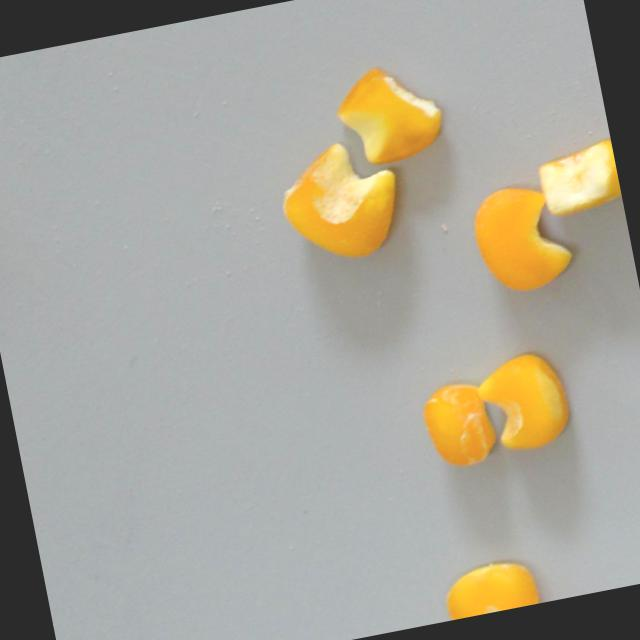dañado: (268, 131, 414, 275), (326, 50, 457, 173), (463, 173, 579, 300), (416, 373, 503, 474), (435, 550, 547, 622)
no_canjicado: (468, 344, 578, 461)
punto_negro: (531, 136, 624, 223)
